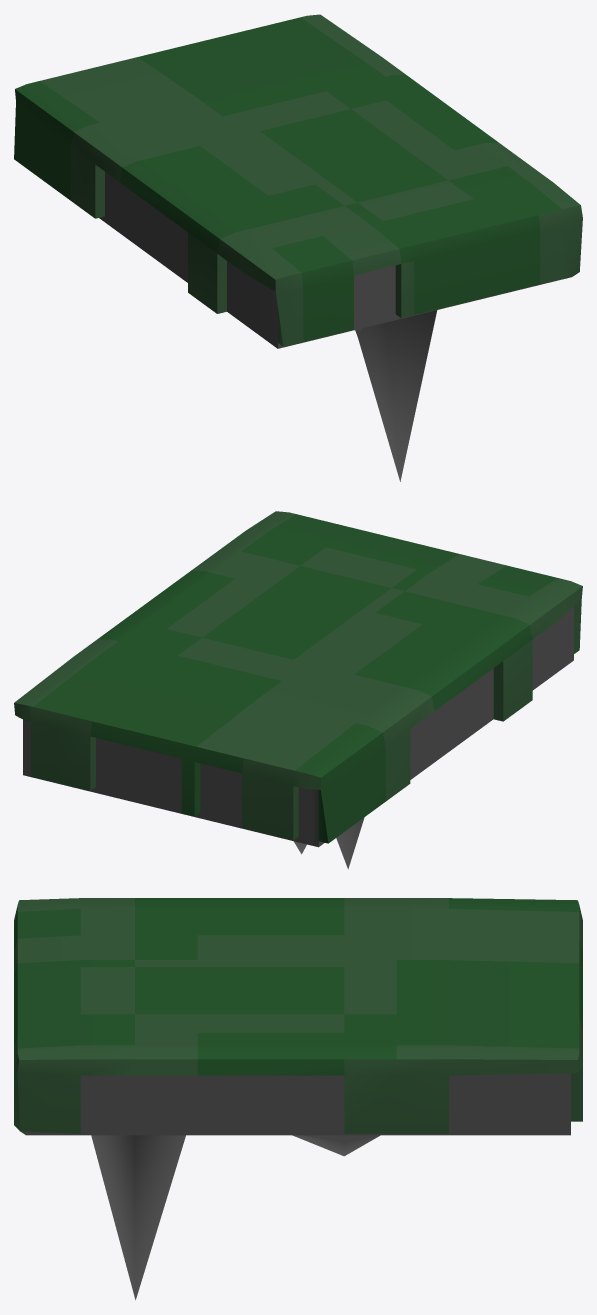
The model's file is plataforma.fbx.
The picture shows the model from 3 angles, top to bottom: view 1: azimuth 30°, elevation 25°; view 2: azimuth 150°, elevation 25°; view 3: azimuth 270°, elevation 25°; orthographic projection. The views are drawn at different scales.
Visible parts, largest first — view 1: pCube1; view 2: pCube1; view 3: pCube1.
Boxes of the visible parts, bbox=[...] form: pCube1: bbox=[14, 14, 582, 481]; pCube1: bbox=[14, 511, 582, 869]; pCube1: bbox=[14, 898, 582, 1300].
Size of the model in its own units: 9.71 by 8.59 by 14.22.
